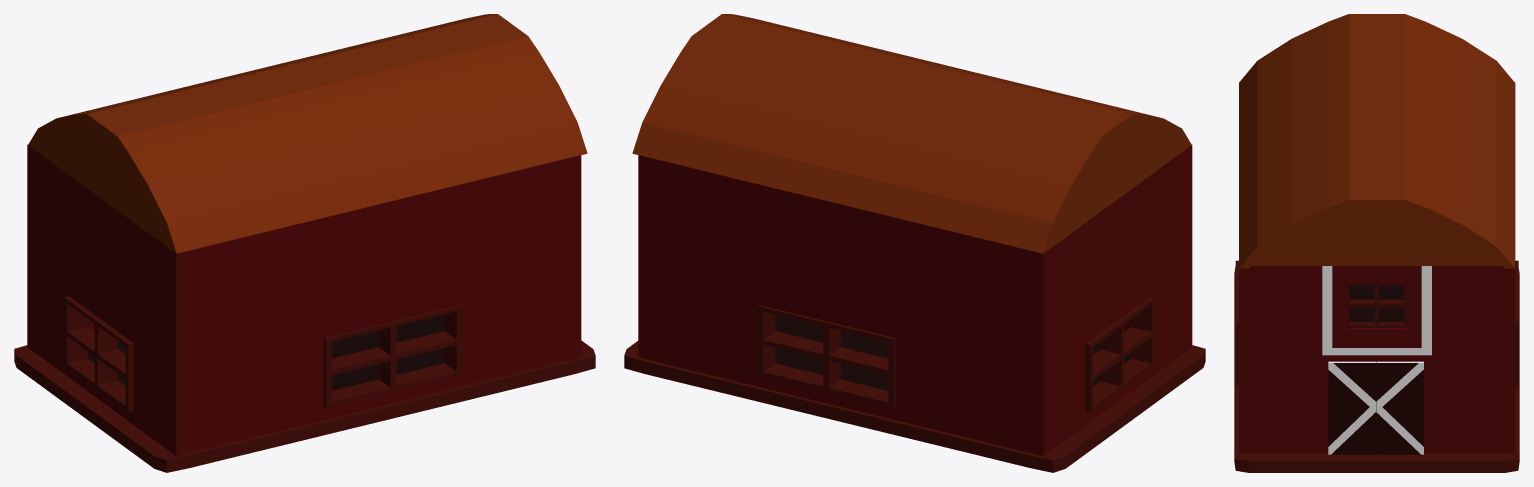
Rendered from granero.FBX.
The picture shows the model from 3 angles, left to right: view 1: azimuth 30°, elevation 25°; view 2: azimuth 150°, elevation 25°; view 3: azimuth 270°, elevation 25°; orthographic projection. The views are drawn at different scales.
Visible parts, largest first — view 1: paredes, tejado, Suelo, ventana009, ventana006; view 2: paredes, tejado, Suelo, ventana010, ventana006; view 3: tejado, paredes, Suelo, Puerta004, Puerta003, ventana007, ventana010, ventana009.
Part boxes in pixels (<box>): paredes: <box>27,144,581,455</box>; tejado: <box>28,14,587,253</box>; Suelo: <box>14,314,595,472</box>; ventana009: <box>323,304,462,407</box>; ventana006: <box>64,296,133,411</box>; paredes: <box>638,145,1192,456</box>; tejado: <box>632,14,1191,253</box>; Suelo: <box>624,314,1205,472</box>; ventana010: <box>757,305,895,407</box>; ventana006: <box>1085,297,1154,412</box>; tejado: <box>1239,14,1514,268</box>; paredes: <box>1239,82,1515,453</box>; Suelo: <box>1234,266,1519,472</box>; Puerta004: <box>1376,361,1423,454</box>; Puerta003: <box>1328,361,1375,454</box>; ventana007: <box>1347,284,1406,327</box>; ventana010: <box>1515,260,1518,385</box>; ventana009: <box>1235,260,1238,385</box>.
Size of the model in its own units: 1098 by 690 by 667.
